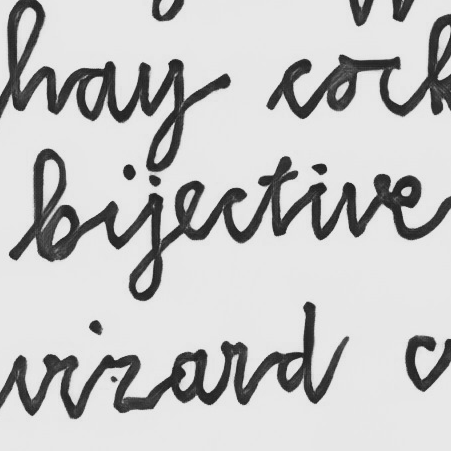b: (31, 146, 84, 265)
c: (216, 184, 251, 246)
e: (389, 174, 437, 242), (170, 179, 209, 244)
i: (96, 160, 139, 251), (303, 161, 332, 243)
j: (125, 172, 167, 303)
t: (255, 152, 300, 238)
v: (342, 172, 386, 239)
